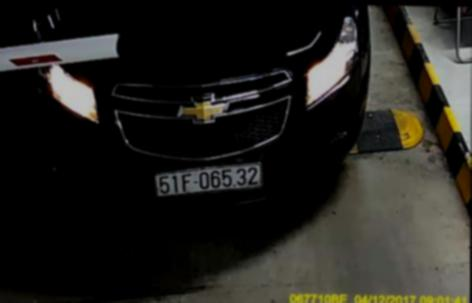License_Plate: (154, 159, 262, 200)
